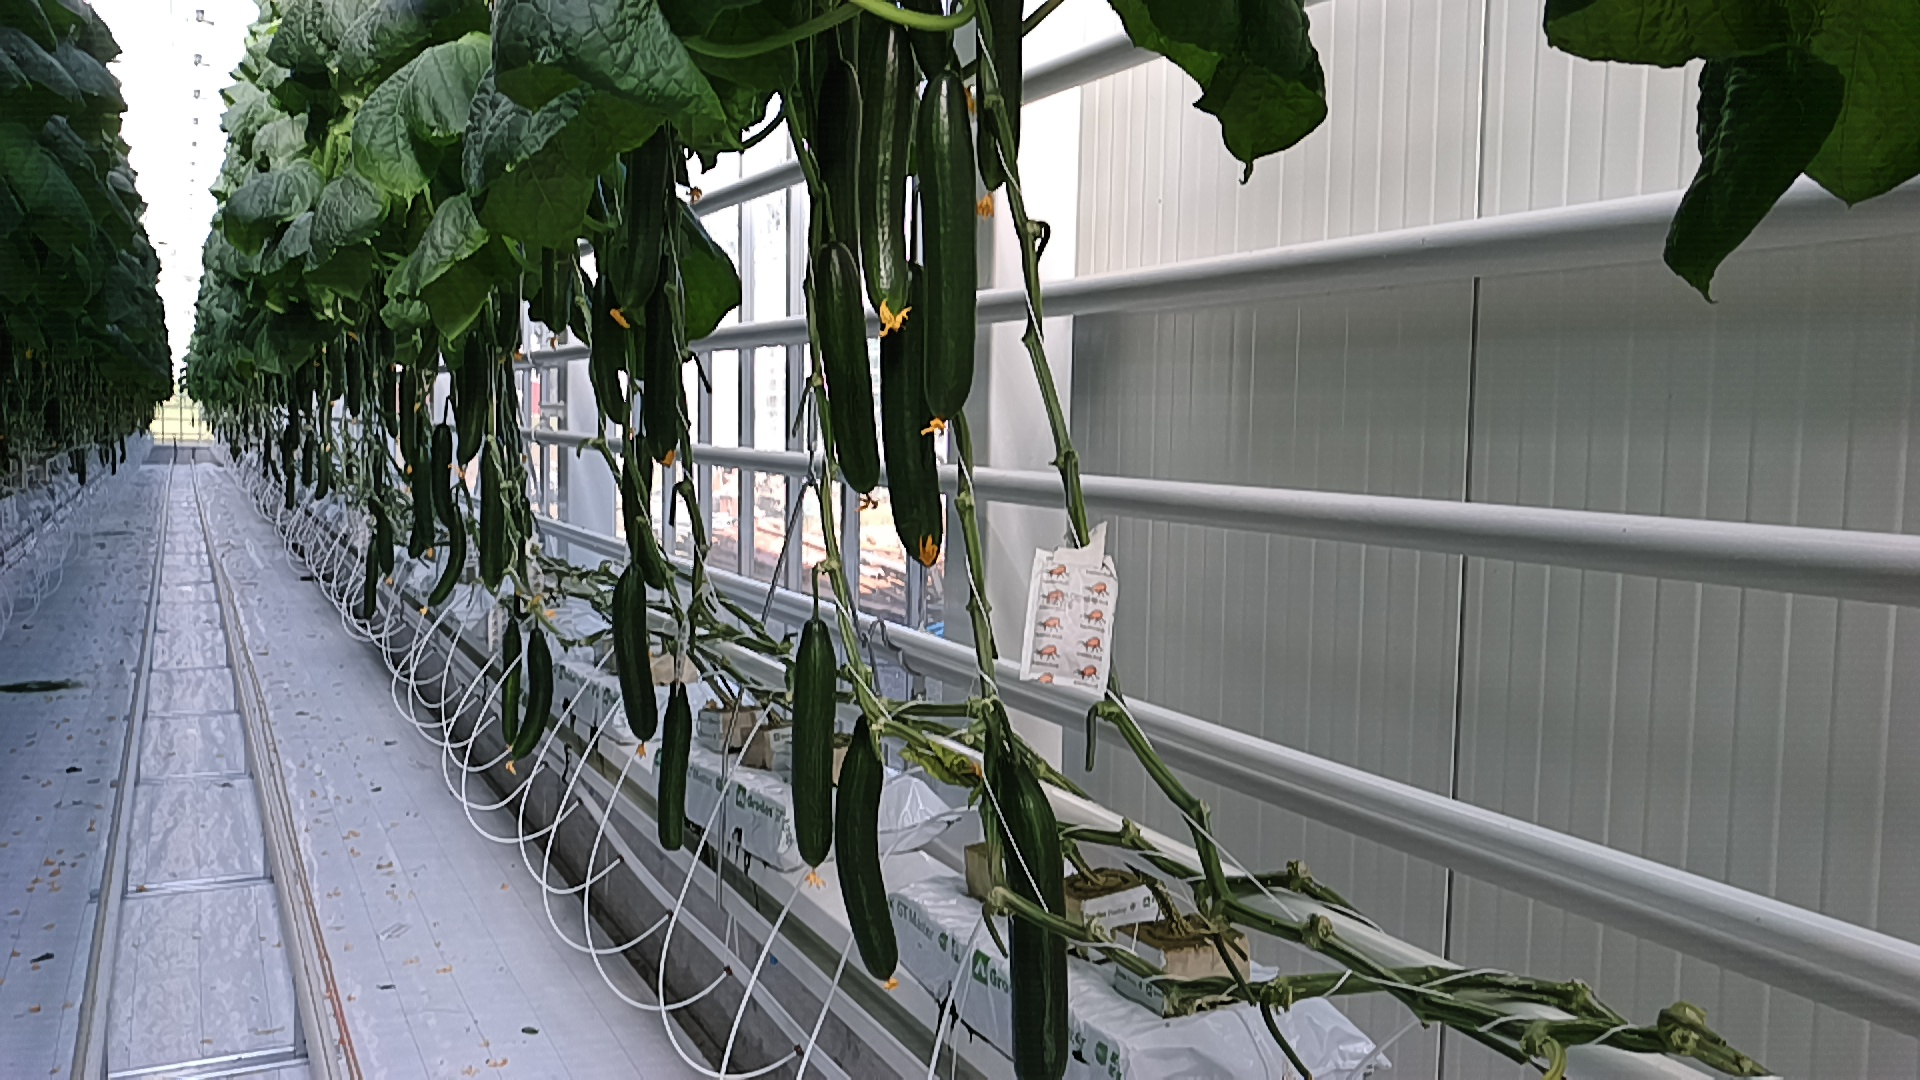gurka: (903, 50, 997, 429), (804, 229, 891, 520), (824, 717, 910, 996), (785, 616, 837, 874), (611, 555, 659, 752), (654, 671, 702, 865)
